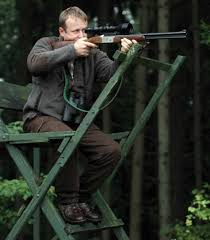weapon: (51, 27, 186, 60)
